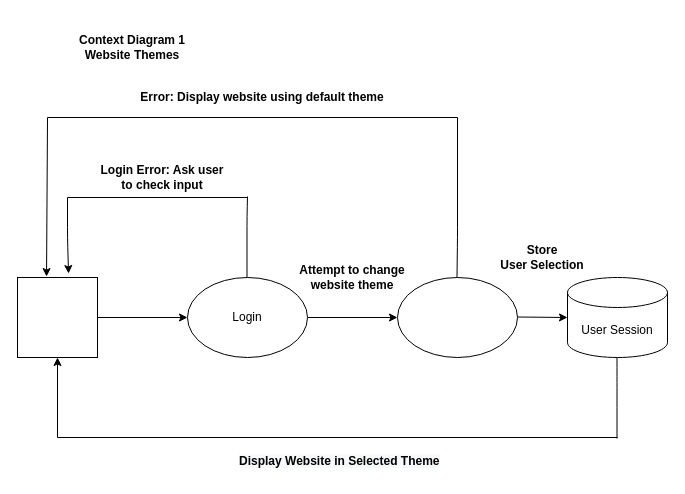
This 685x494 diagram has some shape labels left out. Each missing label, with the centre of its shape:
Turn On/Off Dark Mode: [457,317]
User: [57,317]
